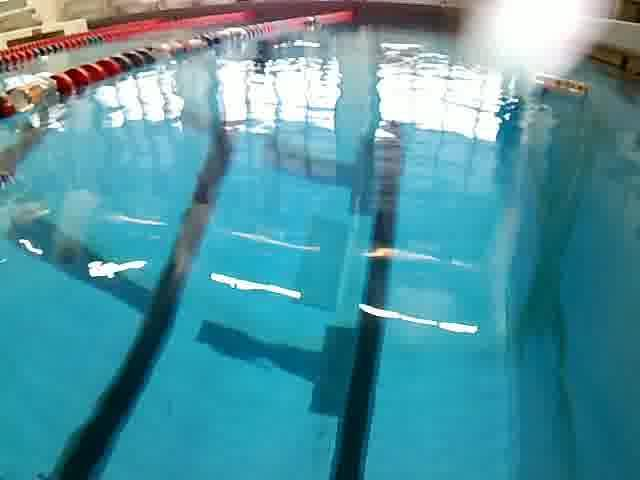Bottle: (0, 71, 61, 127)
Can: (522, 64, 599, 110)
